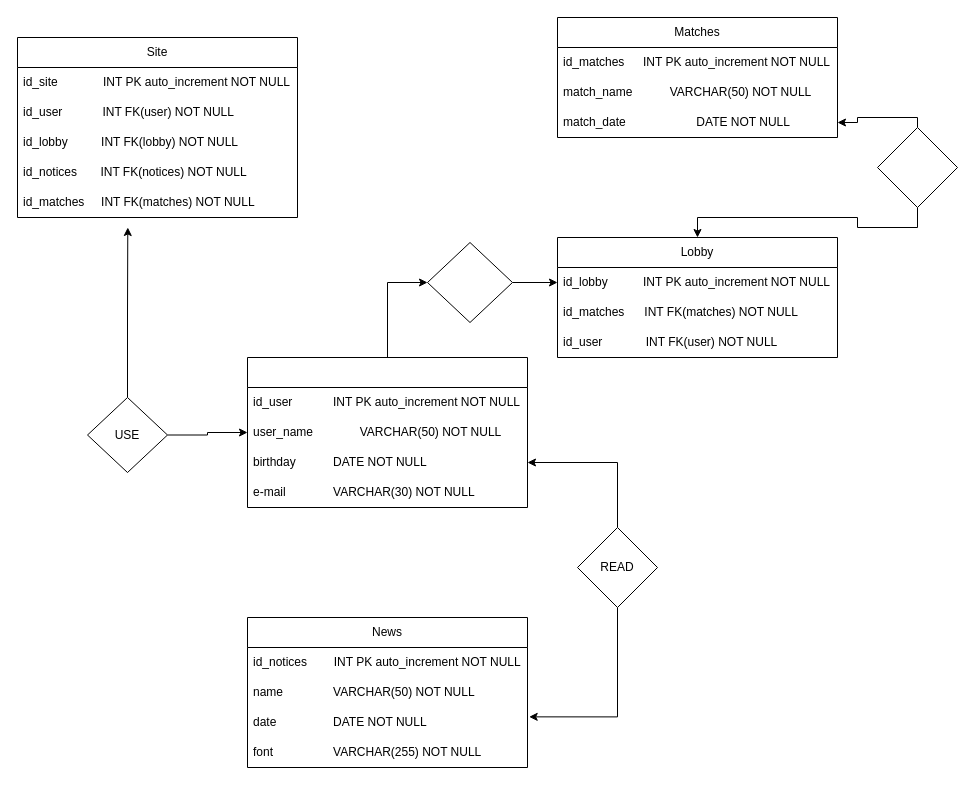
Some shapes in this 975 by 785 pixel diagram are drawn without their labels. Each missing label, with the box of its shape:
GUEST: (876, 126, 958, 208)
JOIN: (426, 242, 512, 322)
User_profile: (246, 356, 528, 508)
